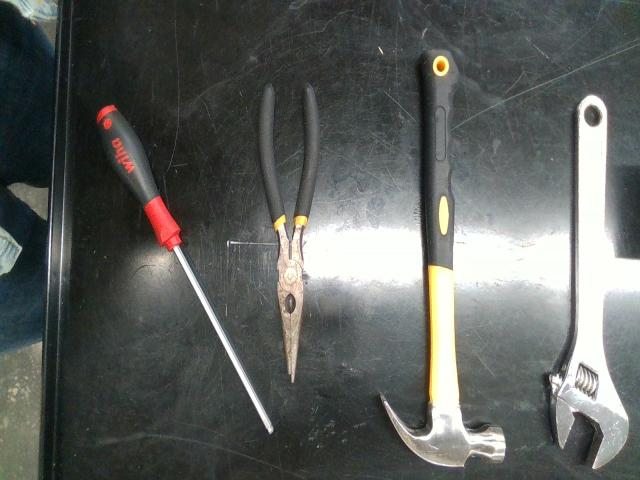Adjustable spanner: (549, 95, 629, 470)
Hammer: (381, 50, 506, 467)
Needle-nose pliers: (259, 83, 320, 382)
Screwdriver: (96, 105, 274, 433)
